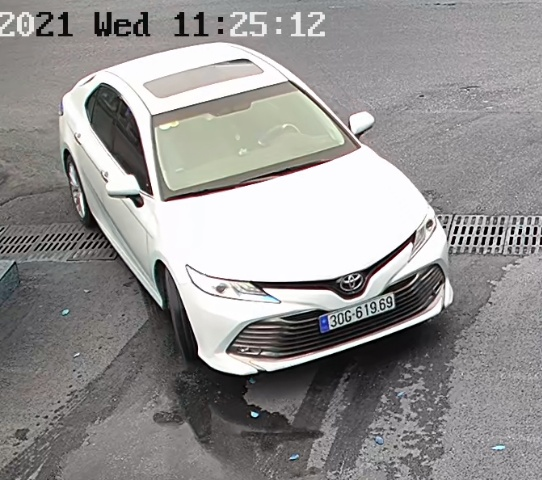vehicle plate: (308, 292, 400, 332)
